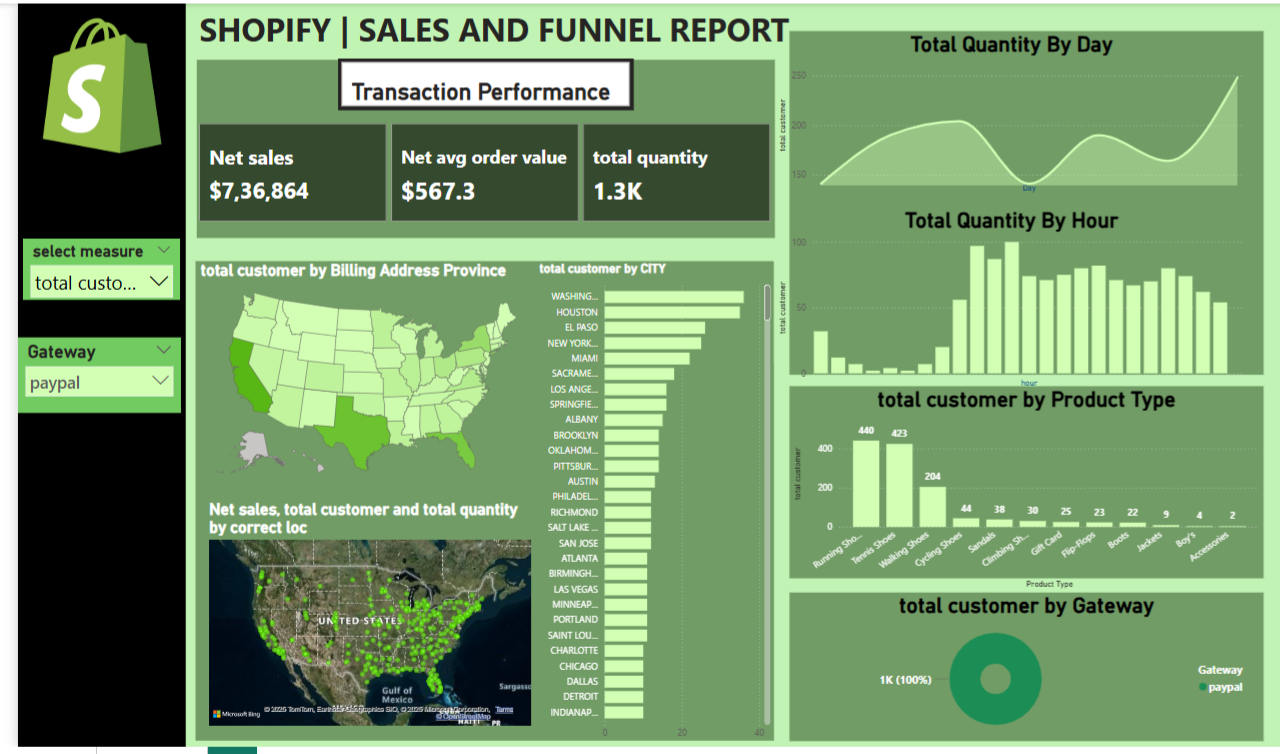

This screenshot's page, from the dashboard's own definition file:
{"tool":"powerbi","page":{"name":"shopify analysis","canvas":[1700,1000],"ordinal":0},"visuals":[{"type":"shape","box":[0,0,226,1000.5],"z":0},{"type":"textbox","box":[238.7,0,867.5,74.7],"z":1000},{"type":"shape","box":[239.6,75.5,777.4,239.6],"z":2000},{"type":"cardVisual","fields":{"Data":["shopify_sales.Net sales","shopify_sales.Net avg order value","shopify_sales.total quantity"]},"box":[238.7,156.7,778.2,142.2],"z":3000},{"type":"cardVisual","fields":{"Data":["shopify_sales.Transaction Perf"]},"box":[430.1,74.7,397.3,69.3],"z":4000},{"type":"shape","box":[238.7,346.3,778.2,645.2],"z":5000},{"type":"shapeMap","fields":{"Value":["shopify_sales.total customer"],"Category":["shopify_sales.Billing Address Province"]},"box":[239.6,347.2,456.6,303.8],"z":6000},{"type":"slicer","fields":{"Values":["select measure.select measure"]},"box":[7.3,315.3,211.4,82],"z":7000},{"type":"map","fields":{"Category":["shopify_sales.correct loc"]},"box":[252.8,667.9,443.4,307.5],"z":8000},{"type":"clusteredBarChart","fields":{"Y":["shopify_sales.total customer"],"Category":["shopify_sales.CITY"]},"box":[696.2,347.2,320.8,652.8],"z":9000},{"type":"shape","box":[1037.7,37.7,637.7,462.3],"z":10000},{"type":"areaChart","title":"Total Quantity By Day","fields":{"Y":["shopify_sales.total customer"],"Category":["shopify_sales.Invoice Date.Variation.Date Hierarchy.Day"]},"box":[1017,37.7,637.7,222.6],"z":11000},{"type":"clusteredColumnChart","title":"Total Quantity By Hour","fields":{"Y":["shopify_sales.total customer"],"Category":["shopify_sales.hour"]},"box":[1017,273.6,637.7,247.2],"z":12000},{"type":"shape","box":[1037.7,792.5,637.7,200],"z":13000},{"type":"donutChart","fields":{"Y":["shopify_sales.total customer"],"Category":["shopify_sales.Gateway"]},"box":[1037.7,792.5,637.7,200],"z":14000},{"type":"shape","box":[1037.7,515.1,637.7,258.5],"z":15000},{"type":"columnChart","fields":{"Y":["shopify_sales.total customer"],"Category":["shopify_sales.Product Type"]},"box":[1037.7,515.1,637.7,277.4],"z":16000},{"type":"image","box":[28.3,1.9,169.8,217],"z":17000},{"type":"slicer","fields":{"Values":["shopify_sales.Gateway"]},"box":[0,449.1,218.9,101.9],"z":18000}]}

Visuals, with their boxes in screenshot pixels (x1, y1, x2, y2), scaled from the page's 1700x1000 canvas onto the 1280x754 screenshot:
shape: bbox=[0, 0, 170, 753]
textbox: bbox=[180, 0, 833, 56]
shape: bbox=[180, 57, 766, 238]
cardVisual - shopify_sales.Net sales x shopify_sales.Net avg order value: bbox=[180, 118, 766, 225]
cardVisual - shopify_sales.Transaction Perf: bbox=[324, 56, 623, 109]
shape: bbox=[180, 261, 766, 748]
shapeMap - shopify_sales.total customer x shopify_sales.Billing Address Province: bbox=[180, 262, 524, 491]
slicer - select measure.select measure: bbox=[5, 238, 165, 300]
map - shopify_sales.correct loc: bbox=[190, 504, 524, 735]
clusteredBarChart - shopify_sales.total customer x shopify_sales.CITY: bbox=[524, 262, 766, 753]
shape: bbox=[781, 28, 1261, 377]
"Total Quantity By Day" areaChart: bbox=[766, 28, 1246, 196]
"Total Quantity By Hour" clusteredColumnChart: bbox=[766, 206, 1246, 393]
shape: bbox=[781, 598, 1261, 748]
donutChart - shopify_sales.total customer x shopify_sales.Gateway: bbox=[781, 598, 1261, 748]
shape: bbox=[781, 388, 1261, 583]
columnChart - shopify_sales.total customer x shopify_sales.Product Type: bbox=[781, 388, 1261, 598]
image: bbox=[21, 1, 149, 165]
slicer - shopify_sales.Gateway: bbox=[0, 339, 165, 415]
